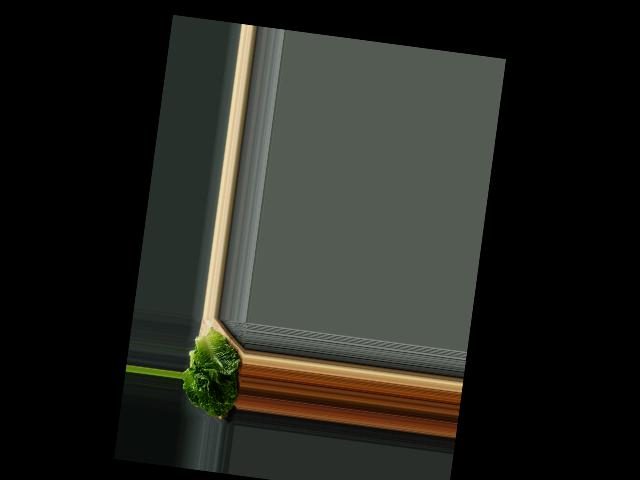lettuce: (178, 327, 247, 422)
